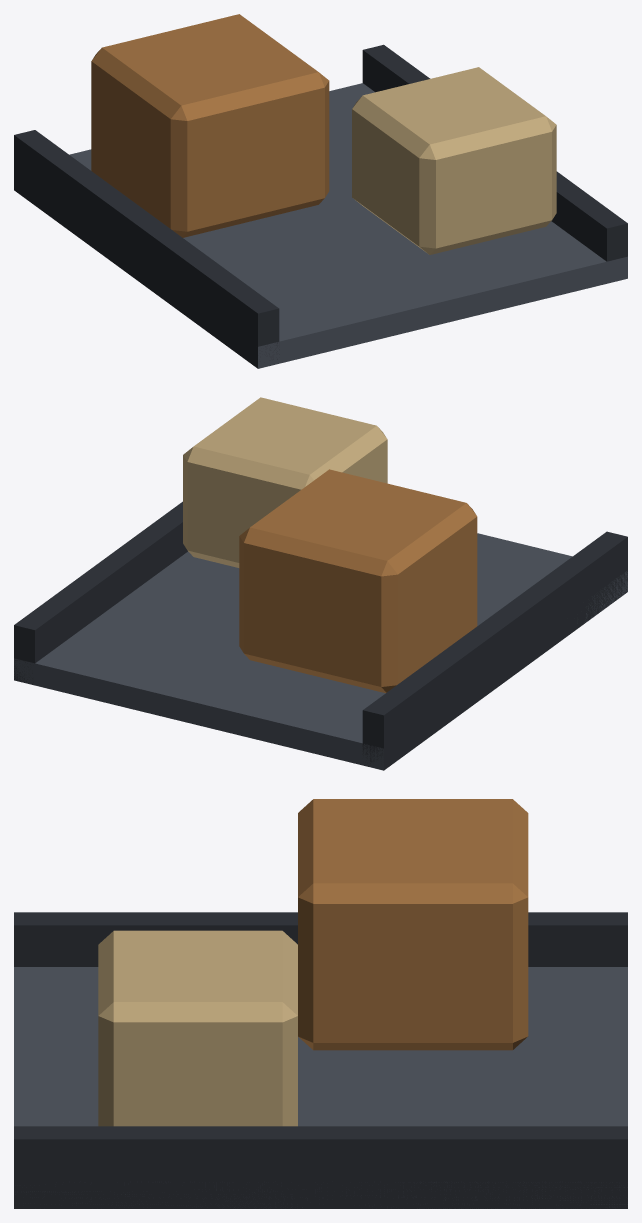
Rendered from att_roofrack.glb.
The picture shows the model from 3 angles, top to bottom: view 1: azimuth 30°, elevation 25°; view 2: azimuth 150°, elevation 25°; view 3: azimuth 270°, elevation 25°; orthographic projection. The views are drawn at different scales.
Visible parts, largest first — view 1: att_roofrack; view 2: att_roofrack; view 3: att_roofrack.
Boxes of the visible parts, box(x1,y1,x2,y2) form: att_roofrack: box(14, 14, 627, 368); att_roofrack: box(14, 397, 627, 770); att_roofrack: box(14, 799, 627, 1208).
Size of the model in its own units: 0.7 by 0.3 by 0.8.
1 material, 1 textured.
